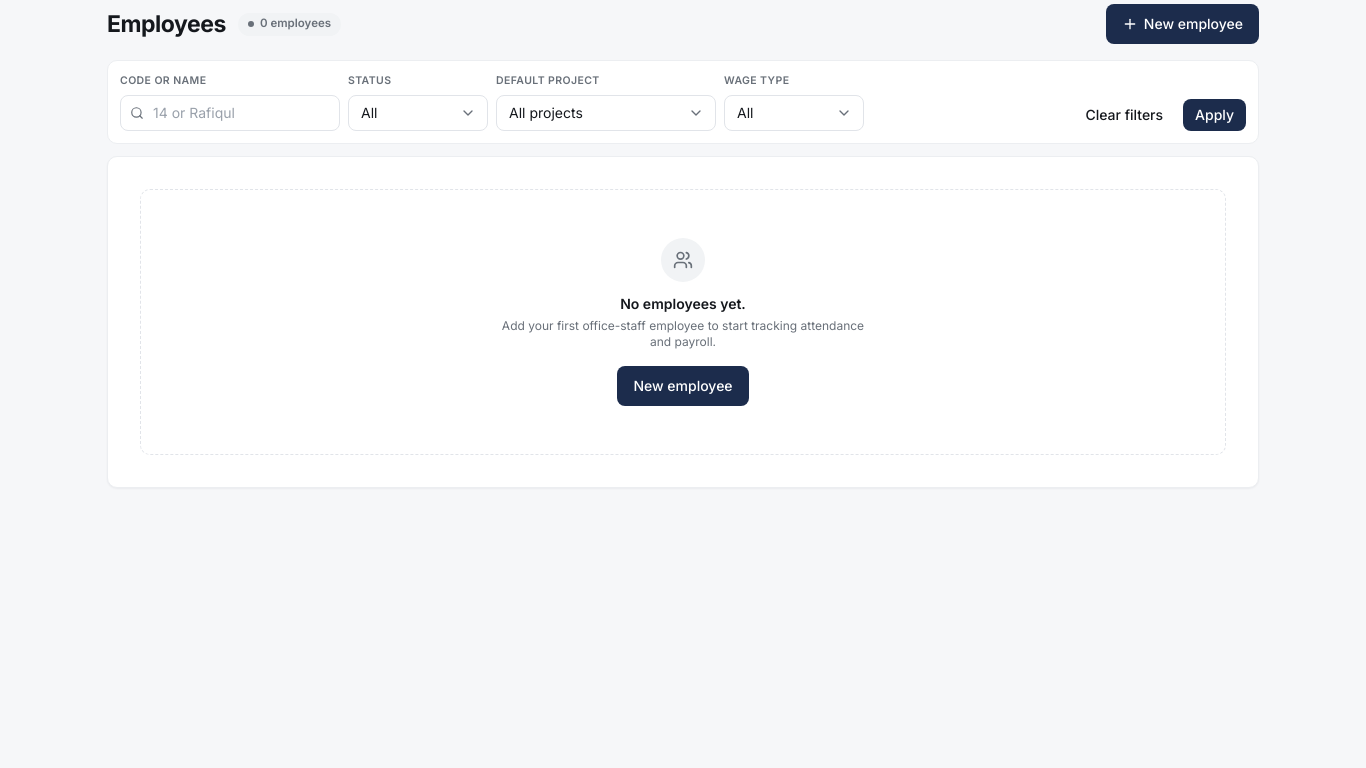
Test case: EmployeeCreateDrawer → Detail (spec §5/§9) › hard-blocks a negative wage amount at the keystroke — the '-' never lands
The width and height of the screenshot is (1366, 768).
Expected: the element with test id "employee-empty-firstuse" is shown, [108, 157, 1258, 487]
Click the button with test id "employee-empty-new".
click(683, 386)  # box [617, 366, 749, 406]
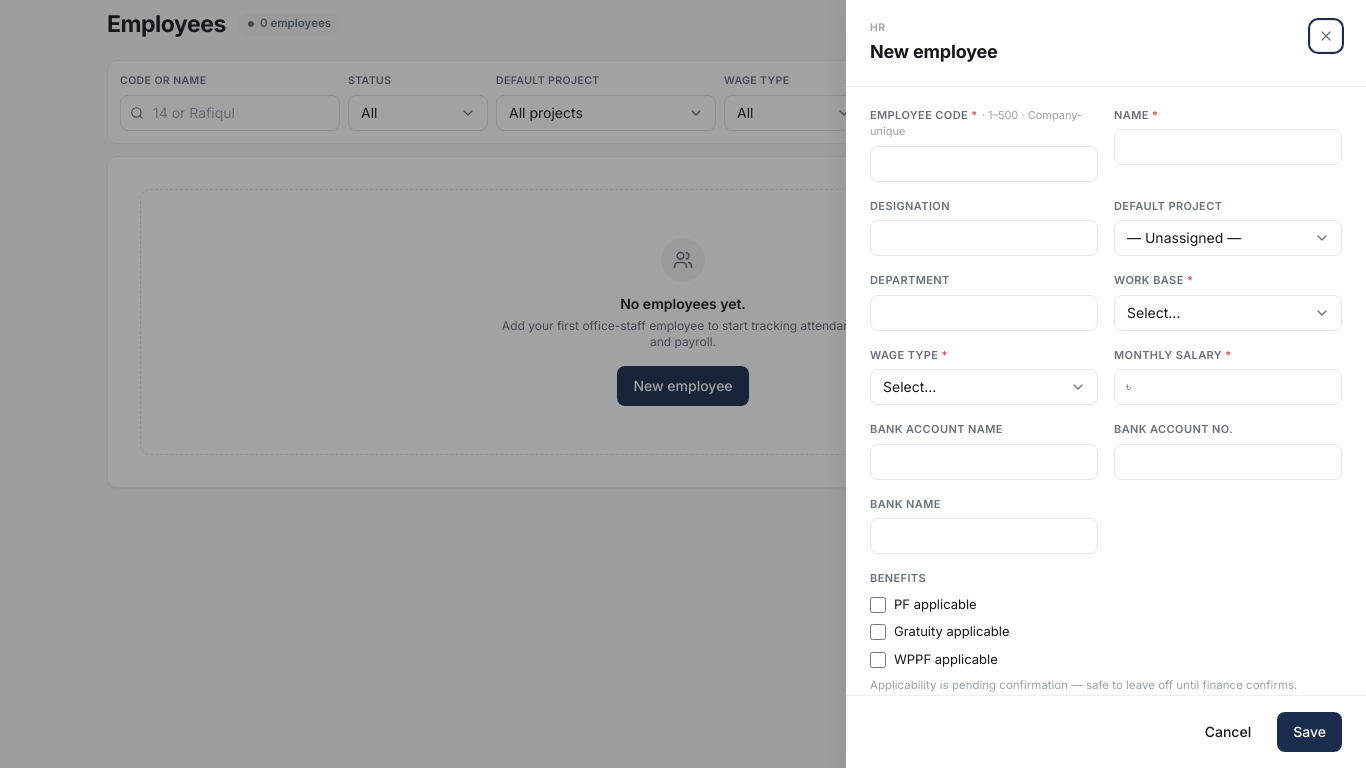
Type "-1" into the field with test id "emp-wageamount".
click(1228, 387); type("-1")  # box [1114, 369, 1342, 405]
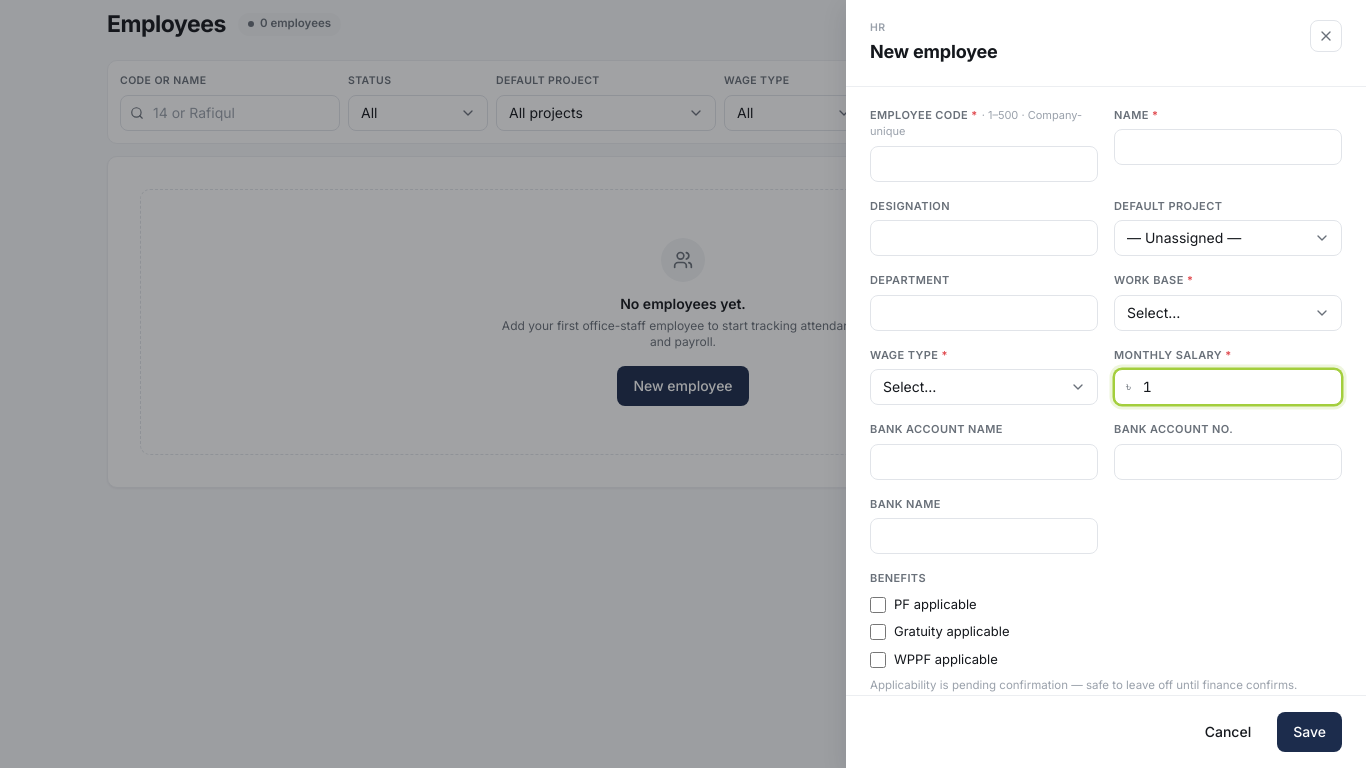
Expected: the field with test id "emp-wageamount" holds "1", [1114, 369, 1342, 405]
